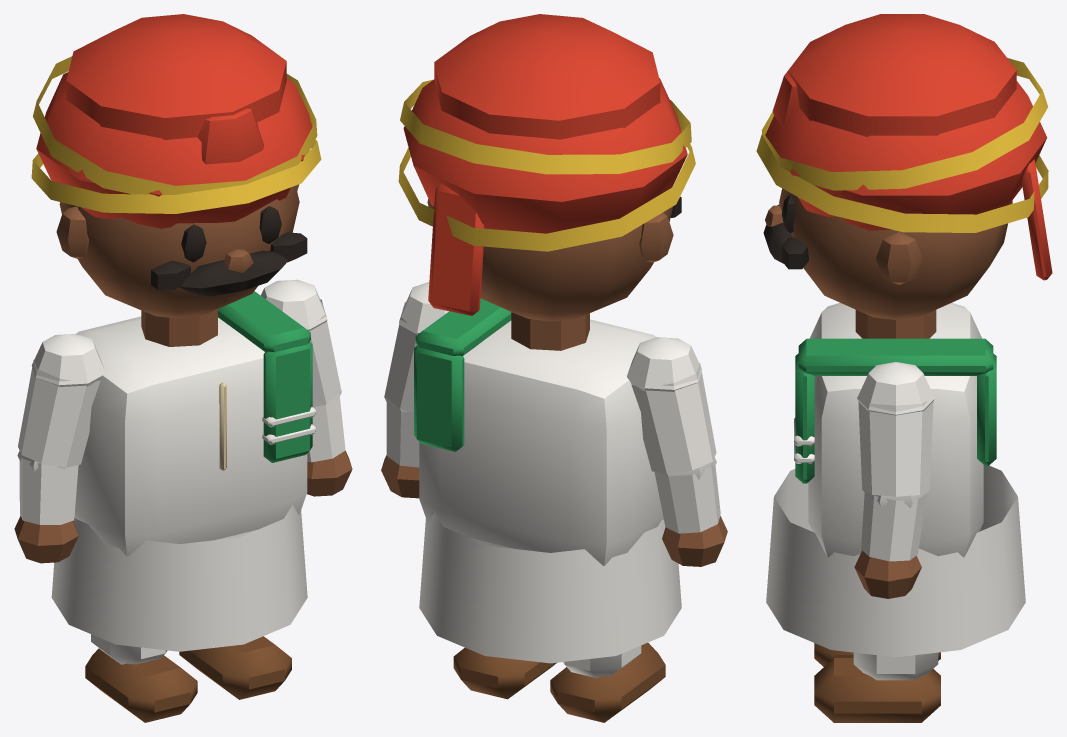
The model's file is trav_farmer.glb.
3 renders of one model, left to right at view 1: azimuth 30°, elevation 25°; view 2: azimuth 150°, elevation 25°; view 3: azimuth 270°, elevation 25°, orthographic. The views are drawn at different scales.
Visible parts, largest first — view 1: body, head, arm_r, arm_l, leg_r, leg_l; view 2: body, head, arm_r, arm_l, leg_r, leg_l; view 3: head, body, arm_l, leg_l, leg_r.
Part boxes in pixels (box(x1,y1,x2,y2)): body: box(51, 291, 315, 651); head: box(31, 14, 321, 318); arm_r: box(14, 334, 105, 563); arm_l: box(261, 279, 352, 496); leg_r: box(85, 634, 197, 722); leg_l: box(179, 636, 291, 699); body: box(414, 298, 681, 663); head: box(398, 14, 695, 321); arm_r: box(627, 337, 727, 566); arm_l: box(381, 282, 448, 498); leg_r: box(550, 642, 665, 722); leg_l: box(453, 647, 556, 699); head: box(756, 14, 1052, 319); body: box(766, 303, 1025, 657); arm_l: box(854, 362, 934, 598); leg_l: box(814, 652, 940, 722); leg_r: box(814, 643, 940, 666).
Bounding box in the file's own units: 0.598 × 1.12 × 0.456.
1 material, 1 textured.
